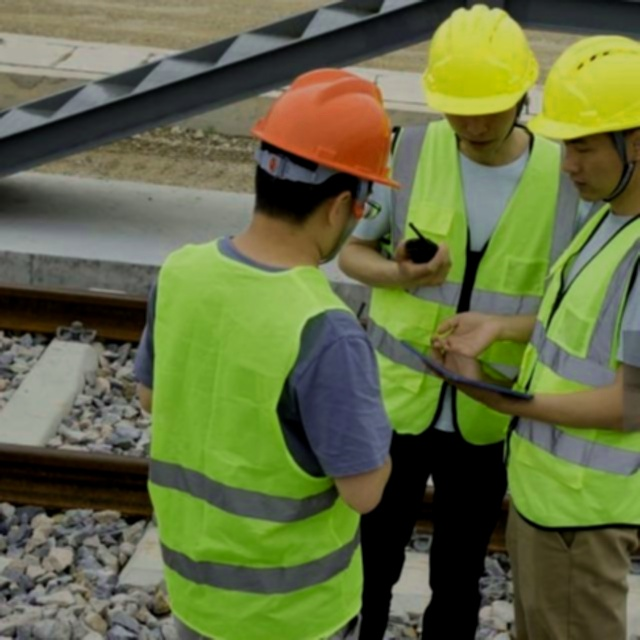Con_Casco: (253, 68, 398, 265), (530, 28, 640, 200), (424, 0, 537, 151)
Con_Chaleco: (145, 252, 374, 628), (506, 214, 640, 524)
